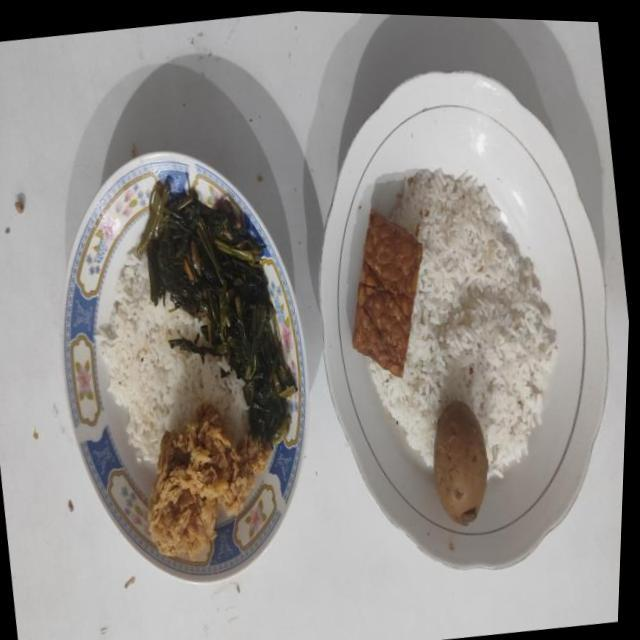nasi_putih: (370, 169, 557, 477), (96, 250, 248, 464)
tempe_goreng: (352, 209, 422, 377)
tumis_kangkung: (137, 175, 298, 445)
